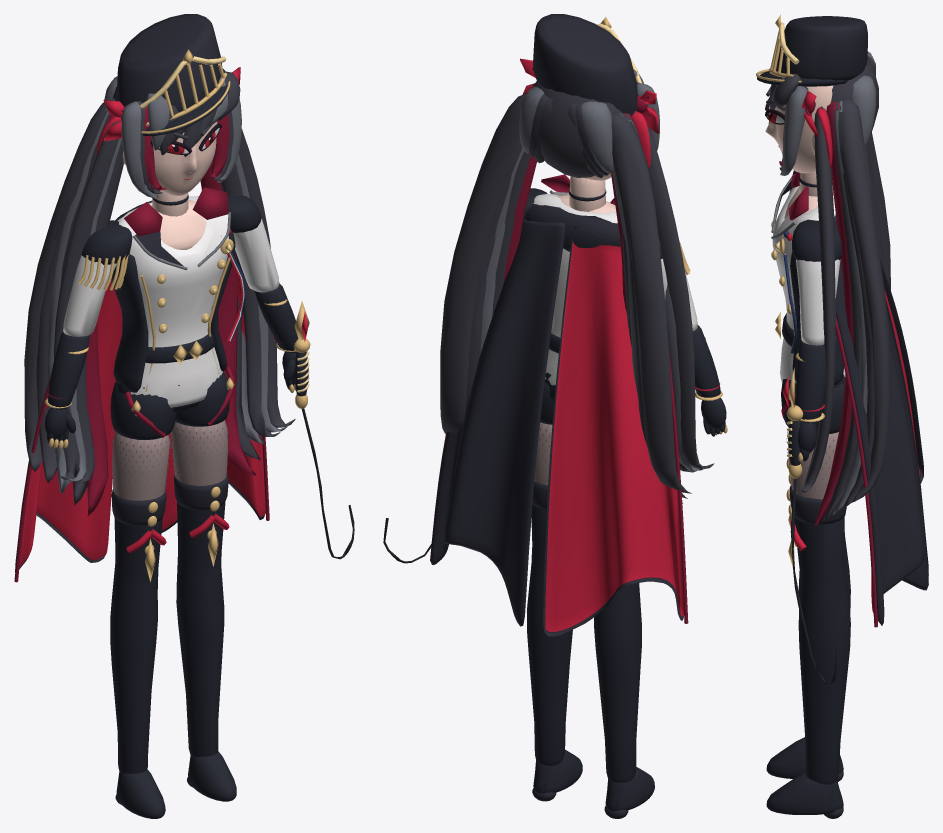
File: gordia-mobile.glb
3 views of the same model, side by side, from view 1: azimuth 30°, elevation 25°; view 2: azimuth 150°, elevation 25°; view 3: azimuth 270°, elevation 25° (orthographic). The views are drawn at different scales.
Parts seen in each view (by area): view 1: Jacket • fitted ivory tunic, Boots • tall fitted shaft, Boots • tall fitted shaft.001, UNVERIFIED_Cape • lined mantle, Cap • angled crown, Hair • long tapered layer.004, Hair • outer swept ribbon.002, Stockings • thigh, Jacket • black side gore, Stockings • thigh.001, Hair • long tapered layer.003, Hair • long tapered layer.005 (+37 smaller); view 2: UNVERIFIED_Cape • lined mantle, UNVERIFIED_Cape • lined mantle.001, Hair • long tapered layer.004, Hair • long tapered layer.009, Cap • angled crown, Boots • tall fitted shaft, Boots • tall fitted shaft.001, Hair • outer swept ribbon.002, UNVERIFIED_Hair • occipital mass, UNVERIFIED_Cape • back yoke, Hair • long tapered layer.008, Jacket • fitted ivory tunic (+15 smaller); view 3: Boots • tall fitted shaft.001, UNVERIFIED_Cape • lined mantle.001, Hair • long tapered layer.009, Cap • angled crown, Hair • outer swept ribbon.005, Hair • long tapered layer.005, UNVERIFIED_Boots • toe and sole.001, Hair • long tapered layer.006, Sleeve • tailored.001, Hair • long tapered layer.008, Gauntlet • articulated bracer.001, Hair • long tapered layer.007 (+24 smaller).
Part boxes in pixels (x1,y1,x2,y2): Jacket • fitted ivory tunic: (117, 196, 228, 407); Boots • tall fitted shaft: (110, 517, 162, 773); Boots • tall fitted shaft.001: (176, 502, 225, 757); UNVERIFIED_Cape • lined mantle: (15, 281, 122, 572); Cap • angled crown: (116, 14, 222, 112); Hair • long tapered layer.004: (24, 98, 114, 471); Hair • outer swept ribbon.002: (54, 120, 120, 479); Stockings • thigh: (112, 432, 169, 500); Jacket • black side gore: (111, 254, 148, 392); Stockings • thigh.001: (171, 420, 227, 485); Hair • long tapered layer.003: (36, 100, 115, 482); Hair • long tapered layer.005: (200, 160, 256, 475); UNVERIFIED_Cape • lined mantle: (543, 225, 684, 636); UNVERIFIED_Cape • lined mantle.001: (430, 219, 565, 626); Hair • long tapered layer.004: (611, 113, 691, 493); Hair • long tapered layer.009: (440, 94, 525, 433); Cap • angled crown: (533, 14, 637, 115); Boots • tall fitted shaft: (594, 583, 641, 782); Boots • tall fitted shaft.001: (527, 504, 572, 766); Hair • outer swept ribbon.002: (633, 111, 714, 469); UNVERIFIED_Hair • occipital mass: (533, 81, 622, 177); UNVERIFIED_Cape • back yoke: (524, 204, 620, 251); Hair • long tapered layer.008: (466, 94, 525, 409); Jacket • fitted ivory tunic: (533, 194, 617, 385); Boots • tall fitted shaft.001: (795, 517, 850, 784); UNVERIFIED_Cape • lined mantle.001: (835, 259, 928, 625); Hair • long tapered layer.009: (840, 99, 890, 502); Cap • angled crown: (776, 16, 867, 80); Hair • outer swept ribbon.005: (801, 107, 835, 492); Hair • long tapered layer.005: (814, 101, 853, 526); UNVERIFIED_Boots • toe and sole.001: (766, 772, 843, 814); Hair • long tapered layer.006: (823, 101, 860, 520); Sleeve • tailored.001: (796, 259, 840, 345); Hair • long tapered layer.008: (838, 100, 874, 508); Gauntlet • articulated bracer.001: (795, 340, 826, 422); Hair • long tapered layer.007: (833, 101, 867, 514).
Size of the model in its own units: 3.44 by 7.85 by 1.55.
